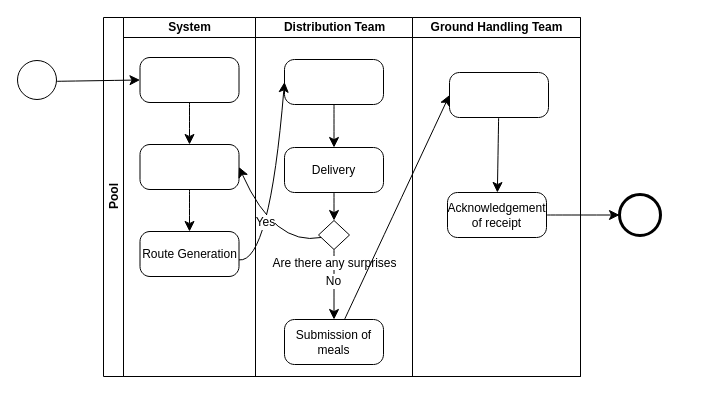
Image size: 704x394. Some labels were removed from this diagram. The shapes that lost their labels are listed below. From the top down, each one's centre as x and y in pixels, then its label:
At (x=189, y=79): "Generate Distribution Tasks".
At (x=334, y=81): "Meal loading".
At (x=498, y=95): "Receiving meals".
At (x=189, y=167): "Dynamic vehicle scheduling".
At (x=639, y=215): "Updated task completion status".
